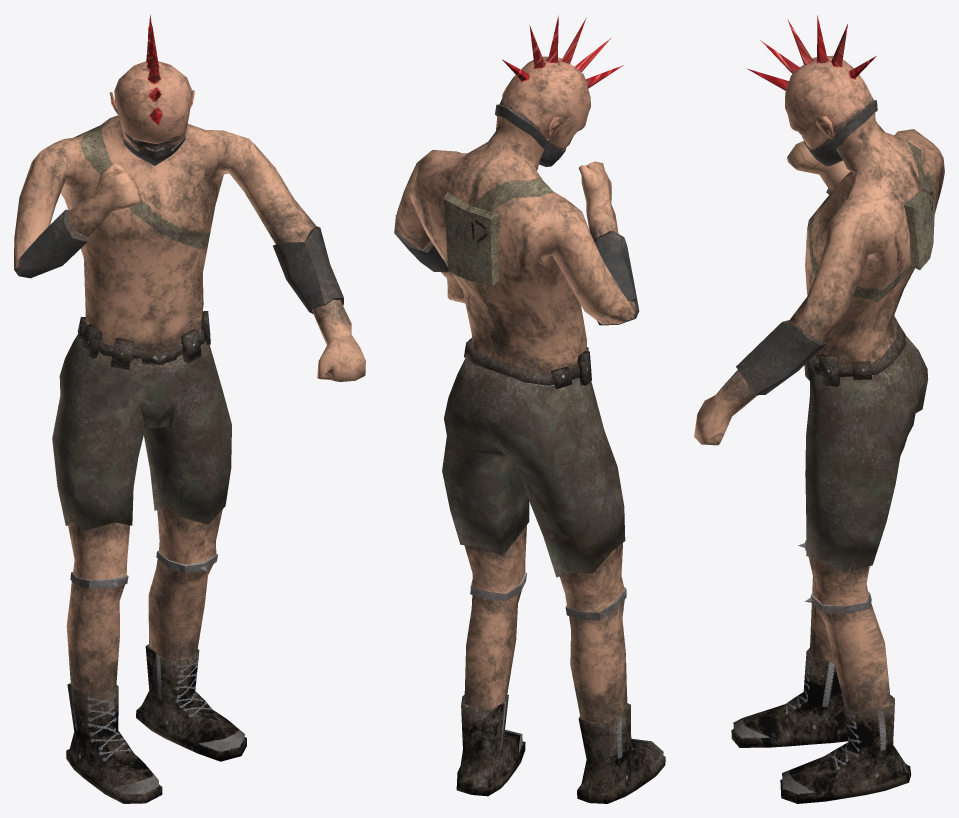
File: Anim_perder_1_npc2.0038.obj
3 views of the same model, side by side, from view 1: azimuth 30°, elevation 25°; view 2: azimuth 150°, elevation 25°; view 3: azimuth 270°, elevation 25° (orthographic). The views are drawn at different scales.
Parts seen in each view (by area): view 1: polySurface1; view 2: polySurface1; view 3: polySurface1.
Boxes of the visible parts, x1,y1,x2,y2 form: polySurface1: (14, 15, 365, 803); polySurface1: (394, 15, 665, 803); polySurface1: (694, 15, 944, 803).
Bounding box in the file's own units: 3.78 × 9.89 × 3.
